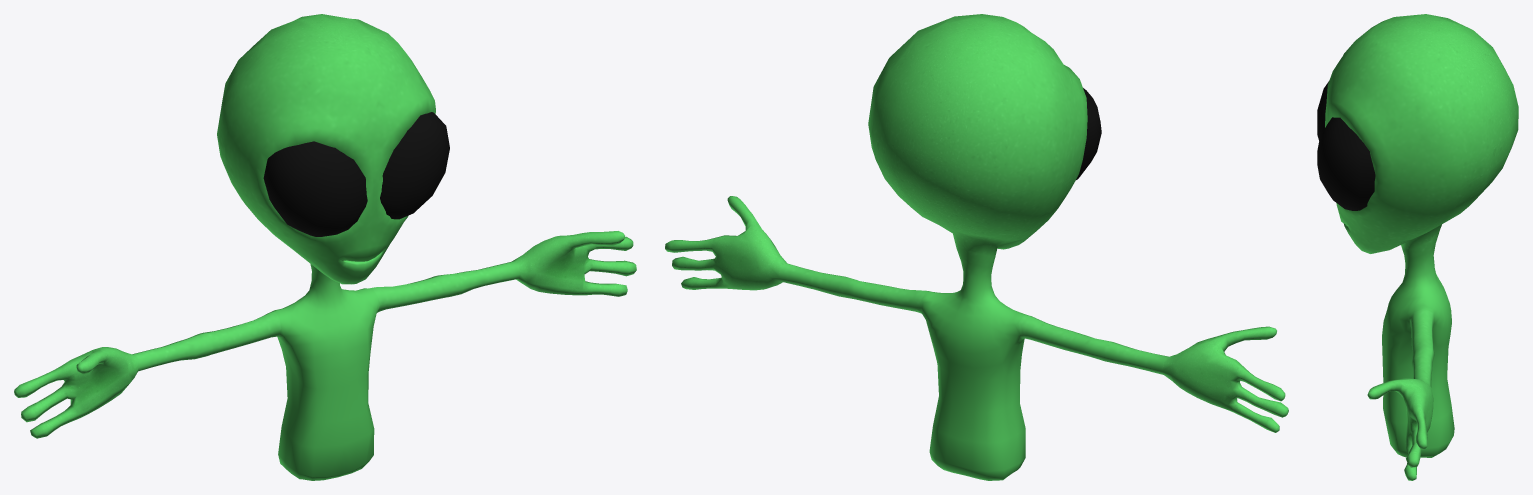
File: AlienFixedUVs.fbx
The picture shows the model from 3 angles, left to right: view 1: azimuth 30°, elevation 25°; view 2: azimuth 150°, elevation 25°; view 3: azimuth 270°, elevation 25°; orthographic projection. The views are drawn at different scales.
Visible parts, largest first — view 1: body_r, eye_r; view 2: body_r, eye_r; view 3: body_r, eye_r.
Part boxes in pixels (x1=…): body_r: x1=14, y1=14, x2=636, y2=480; eye_r: x1=263, y1=112, x2=449, y2=236; body_r: x1=665, y1=14, x2=1288, y2=480; eye_r: x1=1076, y1=88, x2=1101, y2=179; body_r: x1=1325, y1=14, x2=1518, y2=480; eye_r: x1=1317, y1=81, x2=1375, y2=210.
Bounding box in the file's own units: 808 × 559 × 241.
